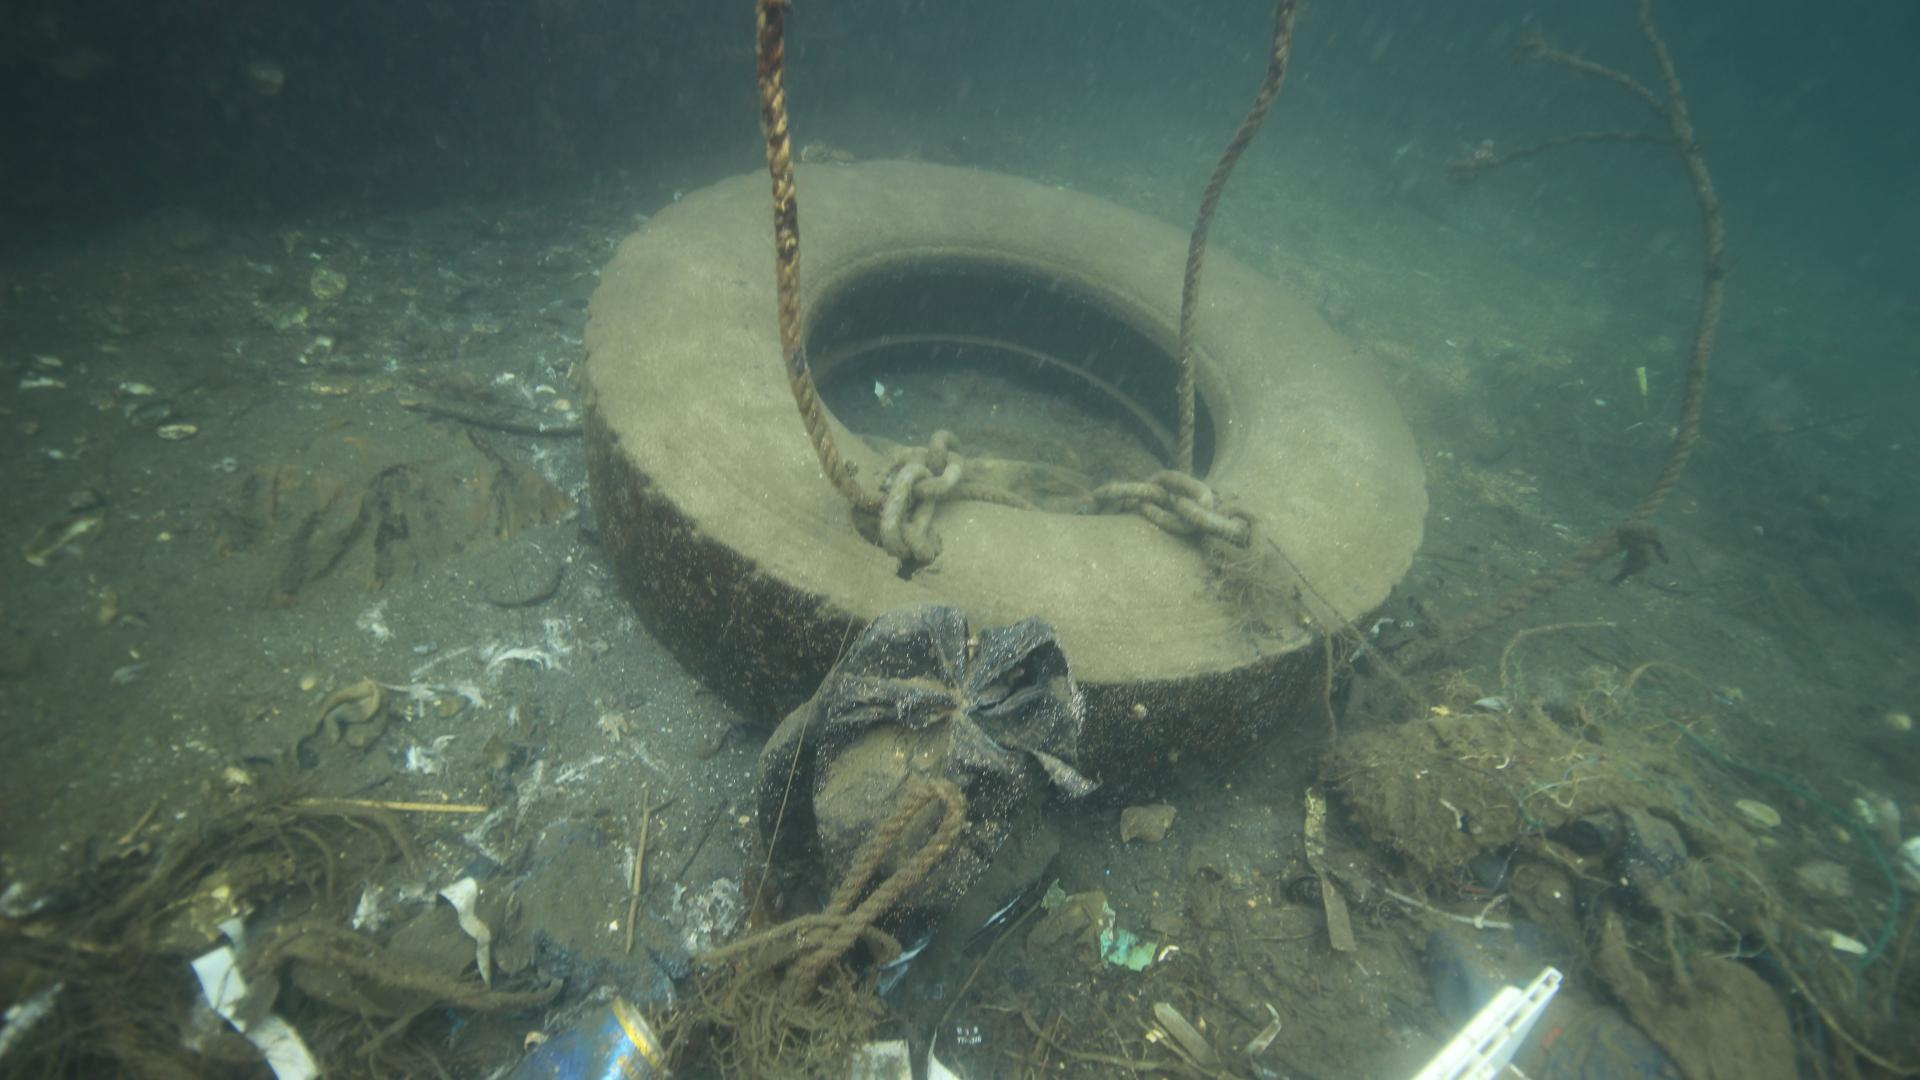bundle of ropes: (752, 0, 872, 512), (729, 779, 967, 982)
rope: (1390, 146, 1725, 671), (1172, 0, 1292, 469)
tire: (579, 156, 1429, 778)
